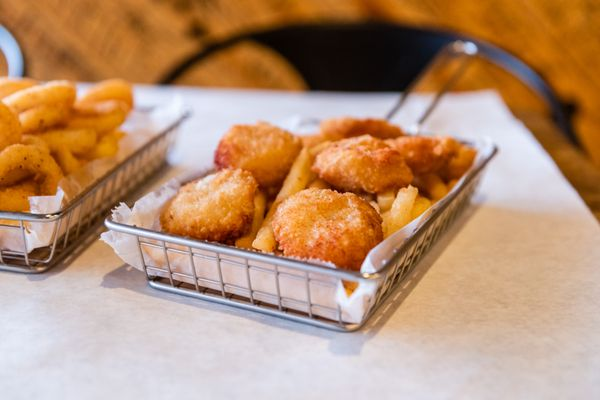sushi: (0, 78, 190, 274)
